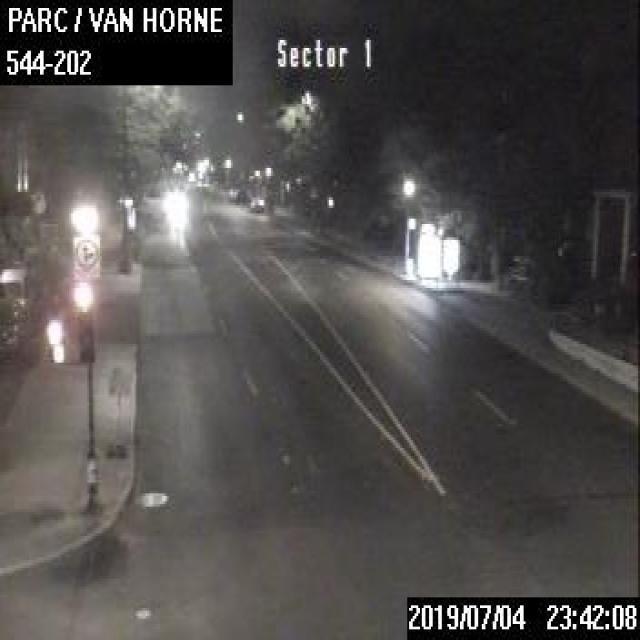vehicle: (0, 263, 35, 316)
